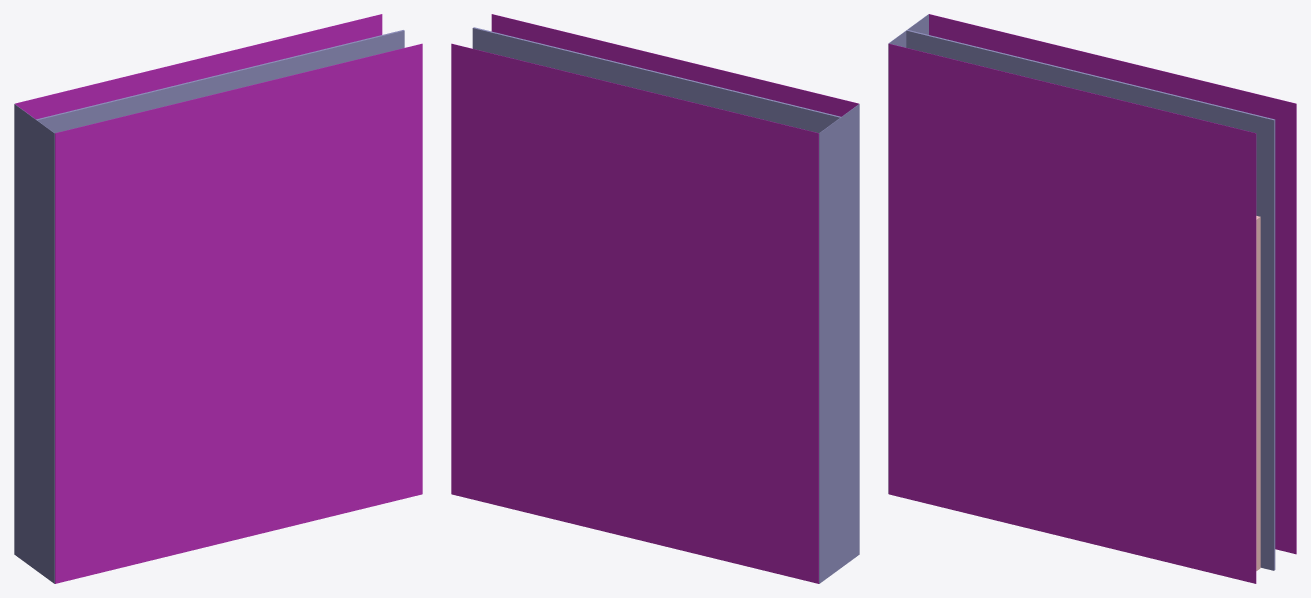
File: g6_emcal.glb
The picture shows the model from 3 angles, left to right: view 1: azimuth 30°, elevation 25°; view 2: azimuth 150°, elevation 25°; view 3: azimuth 330°, elevation 25°; orthographic projection.
Visible parts, largest first — view 1: Mesh_0; view 2: Mesh_0; view 3: Mesh_0.
Boxes of the visible parts, <box> form: Mesh_0: <box>14,14,422,583</box>; Mesh_0: <box>451,14,859,583</box>; Mesh_0: <box>888,14,1296,583</box>.
Bounding box in the file's own units: 88.79 × 104 × 16.99.
